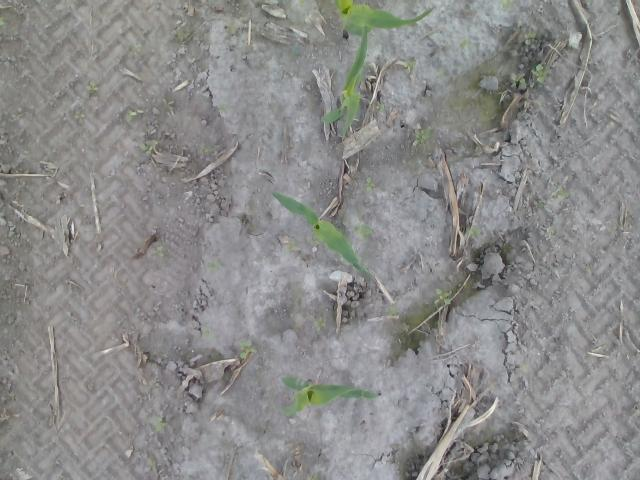Maize: (270, 191, 369, 274), (320, 25, 369, 139), (279, 374, 382, 418), (334, 0, 436, 38)
Weeds: (413, 127, 432, 145), (239, 340, 256, 358), (434, 289, 451, 306), (152, 416, 168, 434), (510, 73, 526, 90), (355, 224, 373, 239), (531, 63, 545, 81), (362, 176, 376, 192), (314, 316, 325, 332), (150, 246, 164, 258), (208, 260, 225, 269), (74, 110, 84, 125), (140, 143, 152, 155), (145, 460, 156, 472), (406, 58, 416, 70), (87, 82, 98, 92), (501, 0, 514, 8), (128, 112, 138, 122), (306, 474, 322, 480), (286, 241, 296, 250), (470, 228, 479, 238), (525, 32, 537, 39), (377, 102, 385, 112), (558, 191, 568, 197)
